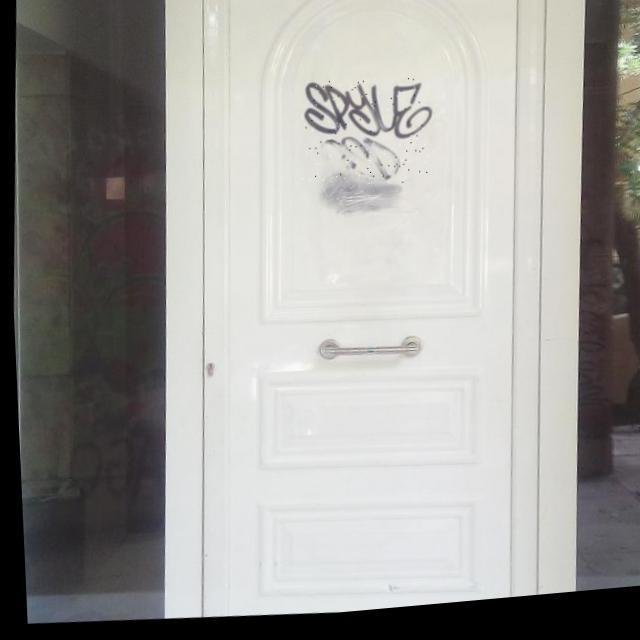-: (296, 78, 436, 200), (263, 0, 513, 15)
